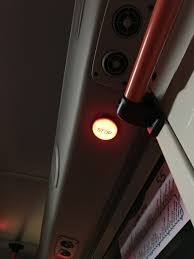bell: (89, 116, 122, 145)
